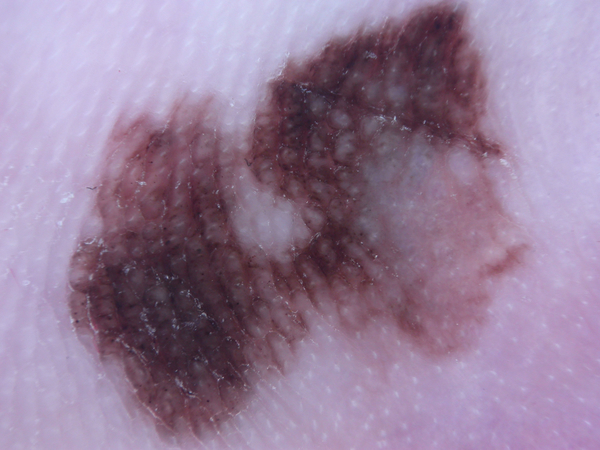Detected Lesion: (64, 3, 533, 437)
